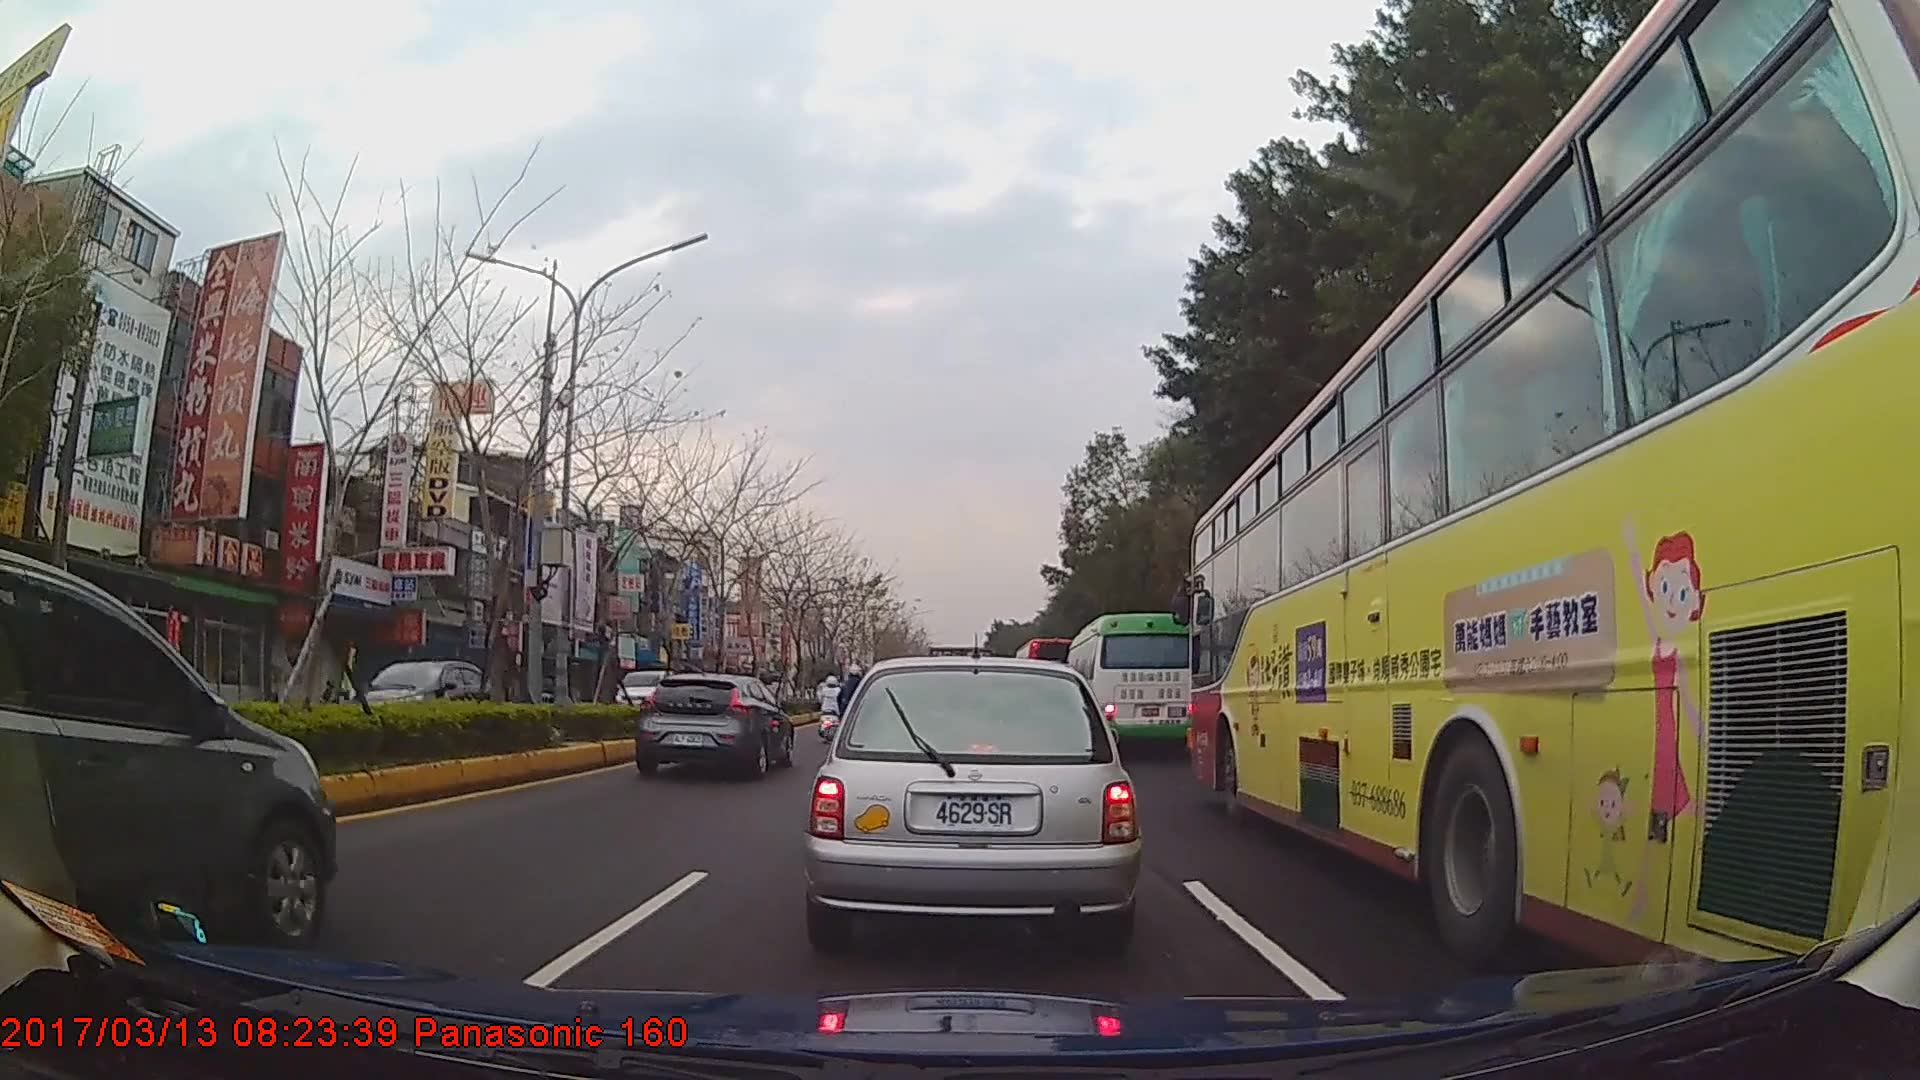rider: (836, 663, 869, 743), (815, 677, 848, 750)
vehicle: (1186, 0, 1920, 988), (0, 541, 330, 949), (808, 651, 1143, 960), (1062, 611, 1197, 755), (630, 673, 796, 778), (335, 652, 498, 739)
